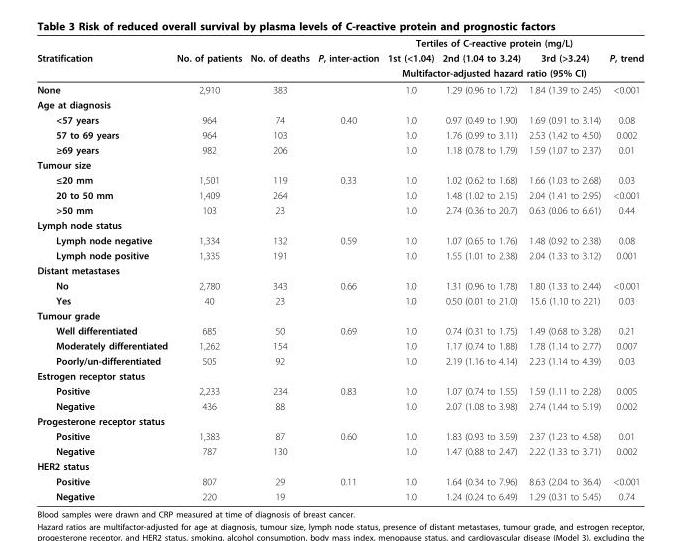table: (36, 36, 643, 501)
table column: (36, 36, 171, 501), (437, 36, 524, 501), (524, 36, 604, 501), (171, 36, 245, 501), (313, 36, 382, 501), (245, 36, 313, 501), (382, 36, 437, 501), (604, 36, 643, 501)
table column header: (36, 36, 643, 80)
table projected row header: (36, 96, 643, 111), (36, 157, 643, 172), (36, 217, 643, 232), (36, 262, 643, 277), (36, 307, 643, 322), (36, 368, 643, 383), (36, 413, 643, 428), (36, 458, 643, 473)
table row: (36, 80, 643, 96), (36, 126, 643, 142), (36, 352, 643, 368), (36, 50, 643, 65), (36, 65, 643, 80), (36, 96, 643, 111), (36, 111, 643, 126), (36, 142, 643, 157), (36, 157, 643, 172), (36, 172, 643, 187), (36, 187, 643, 202), (36, 202, 643, 217), (36, 217, 643, 232), (36, 232, 643, 247), (36, 247, 643, 262), (36, 262, 643, 277), (36, 277, 643, 292), (36, 292, 643, 307), (36, 307, 643, 322), (36, 322, 643, 337), (36, 337, 643, 352), (36, 368, 643, 383), (36, 383, 643, 398), (36, 398, 643, 413), (36, 413, 643, 428), (36, 428, 643, 443), (36, 443, 643, 458), (36, 458, 643, 473), (36, 473, 643, 488), (36, 36, 643, 50), (36, 488, 643, 501)
table spanning cell: (36, 36, 171, 80), (382, 65, 604, 80), (171, 36, 245, 80), (382, 36, 604, 50), (313, 36, 382, 80), (245, 36, 313, 80), (604, 36, 643, 80)
